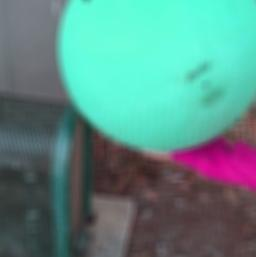algae: (54, 0, 256, 152)
